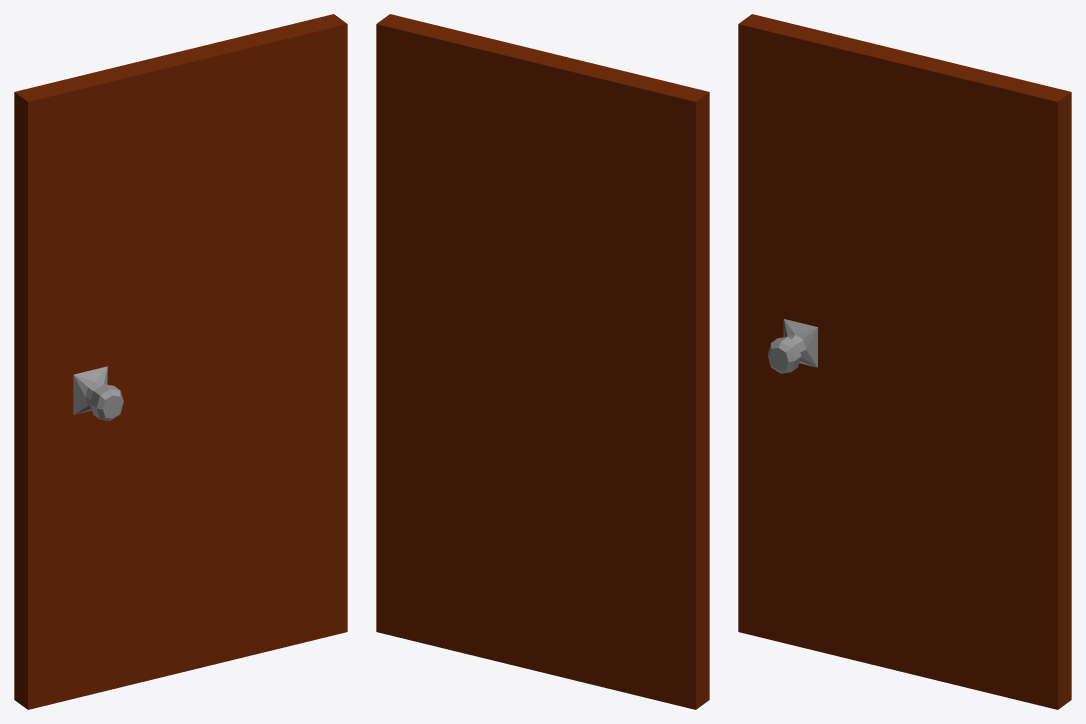
The model's file is Door.fbx.
The picture shows the model from 3 angles, left to right: view 1: azimuth 30°, elevation 25°; view 2: azimuth 150°, elevation 25°; view 3: azimuth 330°, elevation 25°; orthographic projection.
Parts seen in each view (by area): view 1: Cube; view 2: Cube; view 3: Cube.
Part boxes in pixels (<box>): Cube: <box>14,14,347,709</box>; Cube: <box>376,14,709,709</box>; Cube: <box>738,14,1071,709</box>.
Bounding box in the file's own units: 550 × 1001 × 107.
